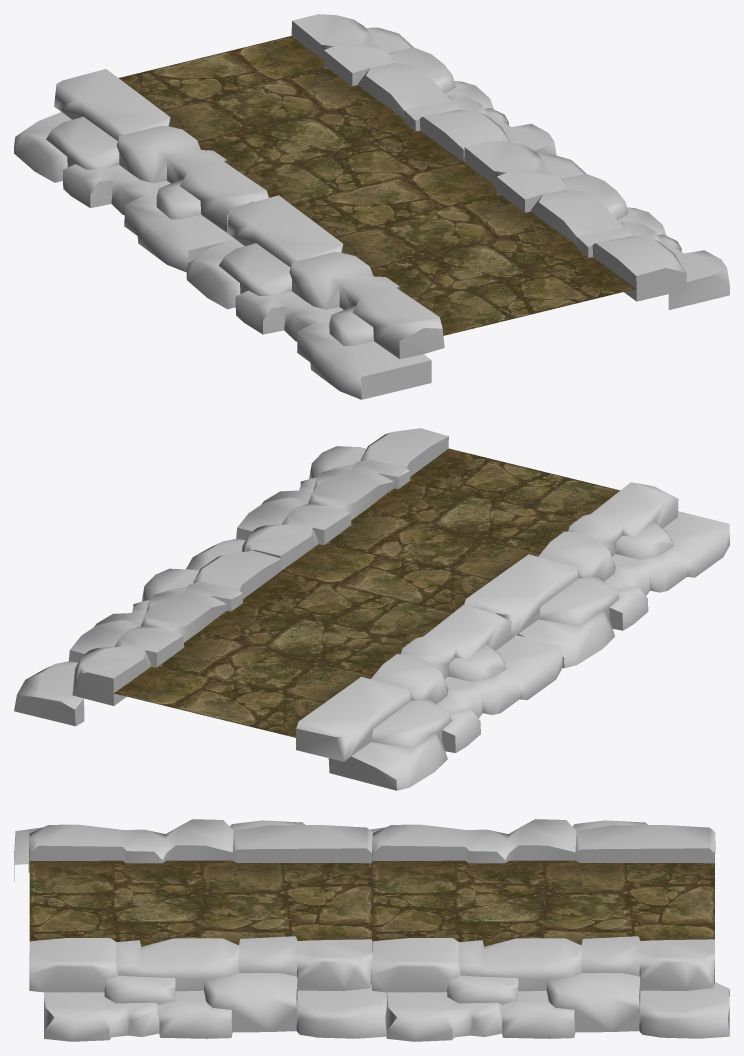
The model's file is Road_02.fbx.
The picture shows the model from 3 angles, top to bottom: view 1: azimuth 30°, elevation 25°; view 2: azimuth 150°, elevation 25°; view 3: azimuth 270°, elevation 25°; orthographic projection. The views are drawn at different scales.
Visible parts, largest first — view 1: Road_02_LOD0; view 2: Road_02_LOD0; view 3: Road_02_LOD0.
Boxes of the visible parts, bbox=[...] form: Road_02_LOD0: bbox=[14, 14, 729, 399]; Road_02_LOD0: bbox=[14, 428, 729, 790]; Road_02_LOD0: bbox=[14, 819, 729, 1041].
Size of what is drawn, in the model's own units: 4.03 by 6.27 by 0.5041.
